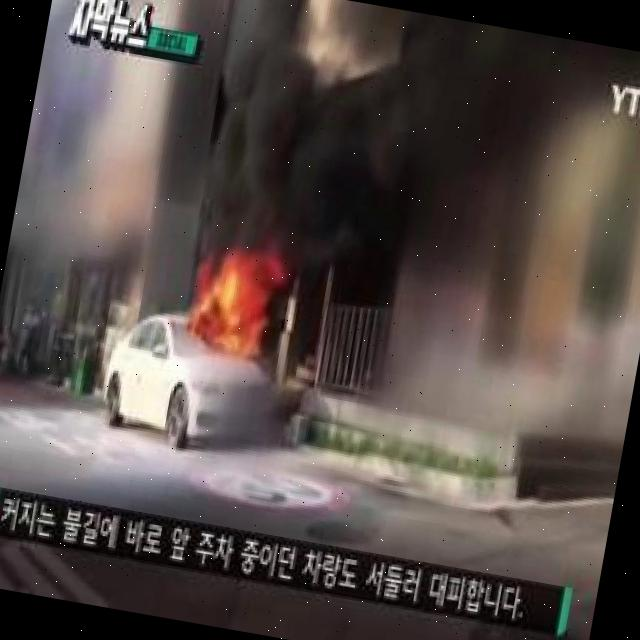fire: (194, 255, 280, 352)
